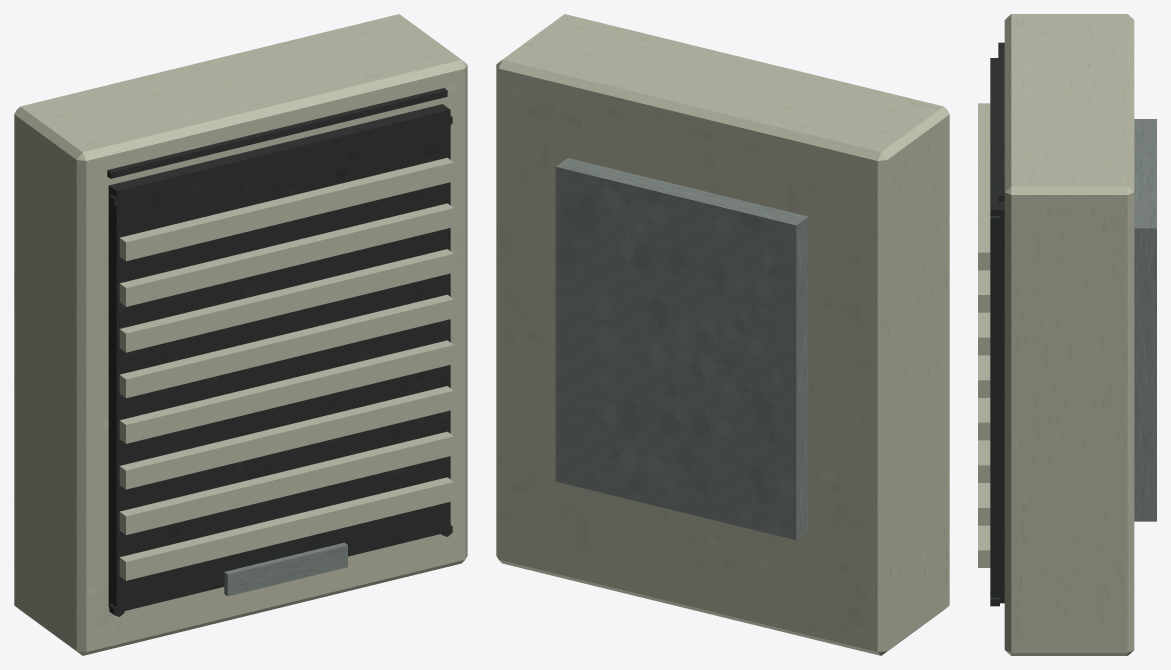
File: wall_speaker_institutional.glb
3 renders of one model, left to right at view 1: azimuth 30°, elevation 25°; view 2: azimuth 150°, elevation 25°; view 3: azimuth 270°, elevation 25°, orthographic. The views are drawn at different scales.
Visible parts, largest first — view 1: wall_speaker_institutional; view 2: wall_speaker_institutional; view 3: wall_speaker_institutional.
Part boxes in pixels (<box>): wall_speaker_institutional: <box>14,14,467,655</box>; wall_speaker_institutional: <box>496,14,949,655</box>; wall_speaker_institutional: <box>978,14,1156,655</box>.
Bounding box in the file's own units: 0.26 × 0.32 × 0.1105.
Materials: 3 (3 with a texture image).
